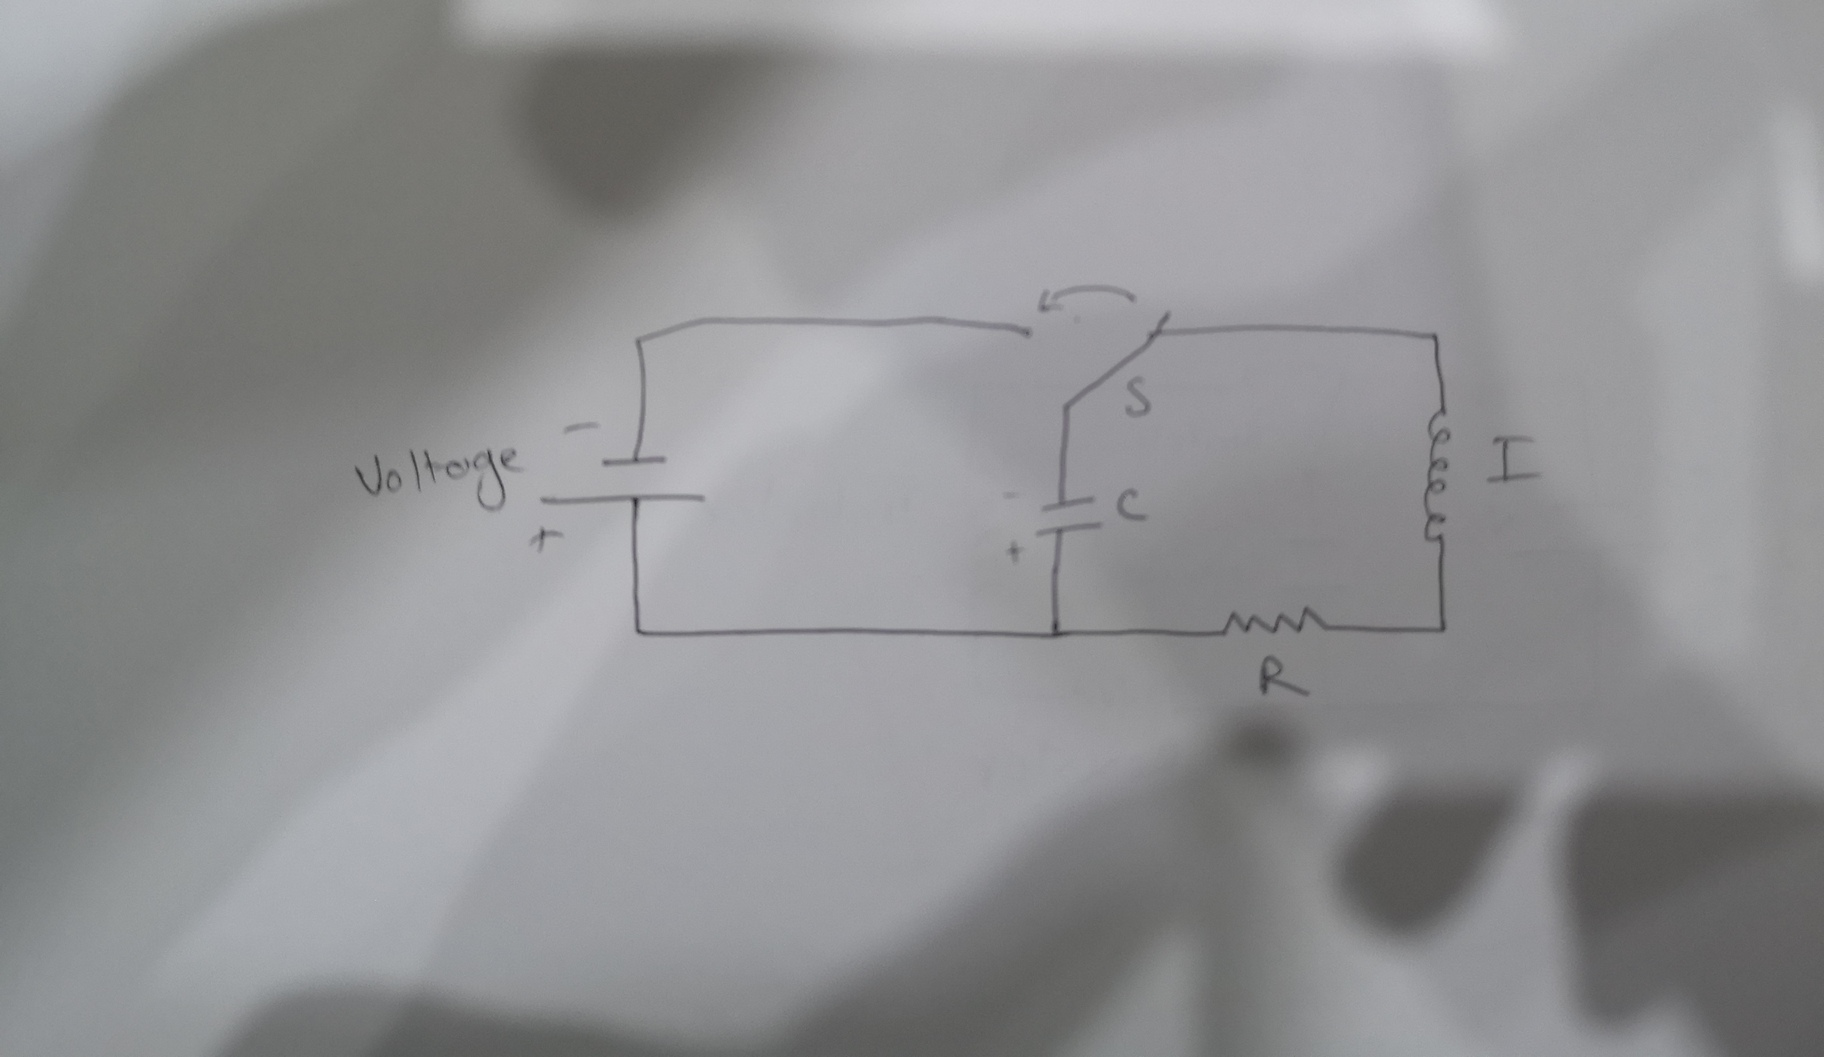capacitor.polarized: (993, 477, 1106, 568)
inductor: (1418, 399, 1460, 552)
junction: (1040, 617, 1073, 651), (621, 327, 653, 355), (1429, 613, 1457, 642), (626, 617, 652, 646), (1425, 327, 1445, 347)
resistor: (1216, 603, 1326, 640)
switch: (1018, 278, 1177, 415)
text: (348, 439, 530, 517), (1254, 651, 1315, 705), (1488, 435, 1540, 482), (1111, 483, 1152, 525), (1120, 376, 1155, 417)
voltage.dc: (533, 443, 715, 518)
